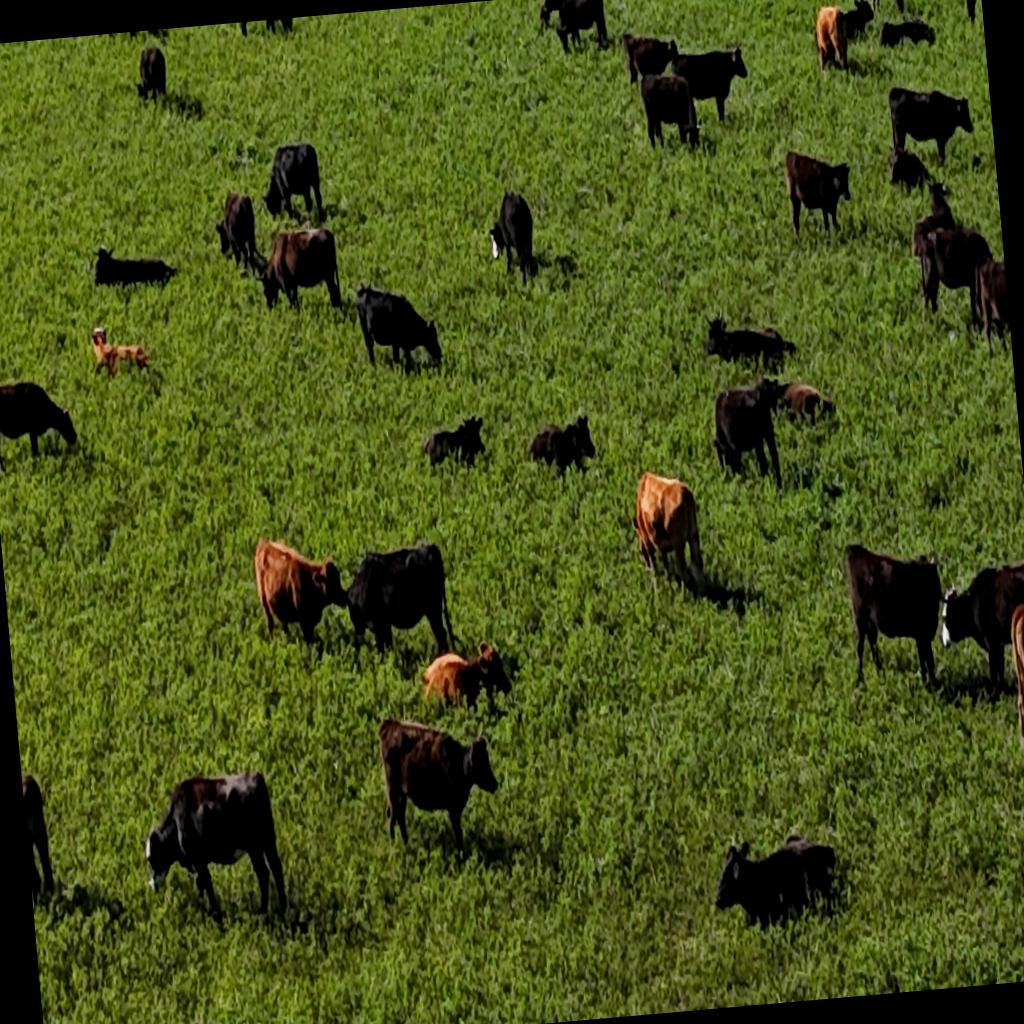cow: (140, 768, 288, 932), (373, 710, 504, 866), (842, 536, 952, 697), (706, 828, 840, 938), (340, 540, 457, 665), (934, 559, 1024, 706), (251, 529, 352, 651), (629, 466, 709, 600), (353, 275, 444, 378), (914, 219, 997, 320), (709, 378, 784, 488), (254, 225, 340, 319), (886, 80, 975, 168), (0, 371, 79, 468), (668, 42, 754, 128), (421, 640, 515, 718), (702, 306, 796, 380), (783, 146, 856, 240), (258, 140, 324, 226), (484, 188, 538, 288), (640, 66, 700, 152), (524, 413, 598, 482), (88, 238, 176, 294), (21, 770, 55, 904), (970, 252, 1012, 354), (212, 189, 260, 272), (905, 182, 960, 252), (420, 415, 486, 471), (90, 321, 152, 380), (624, 28, 677, 86), (547, 0, 606, 52), (778, 378, 838, 428), (814, 2, 854, 75), (886, 142, 930, 195), (132, 44, 168, 104), (877, 15, 935, 51), (838, 0, 877, 43), (867, 0, 925, 17), (959, 0, 982, 21)
